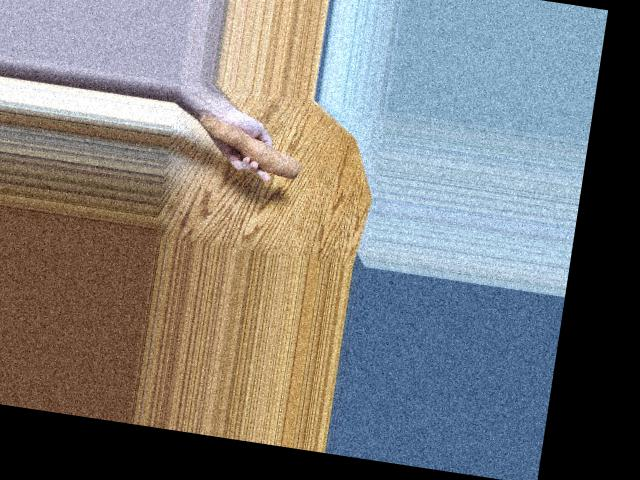sweet_potato: (194, 111, 302, 172)
